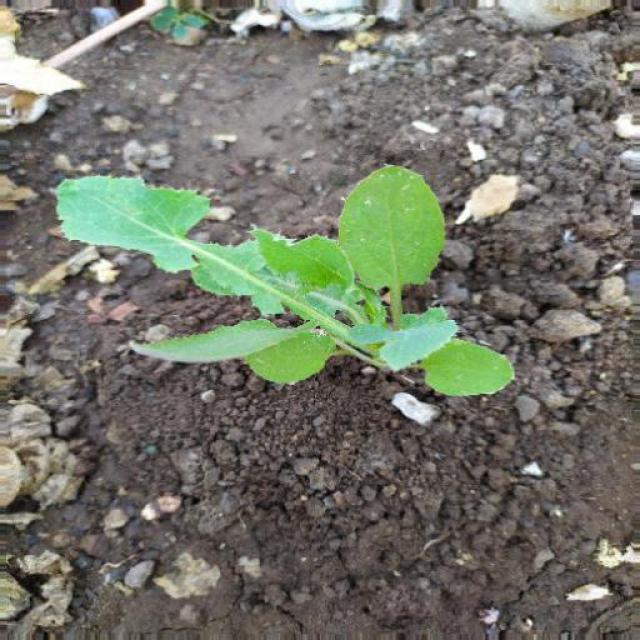weed: (55, 141, 523, 459)
